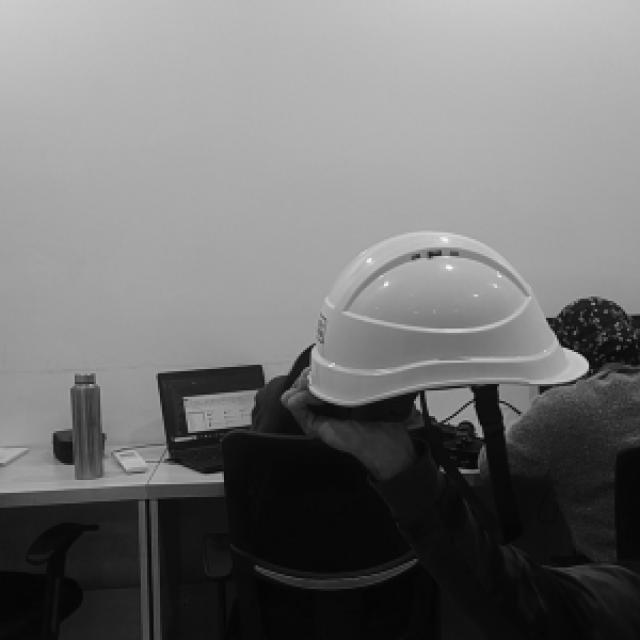safety_helmet: (308, 228, 590, 406)
